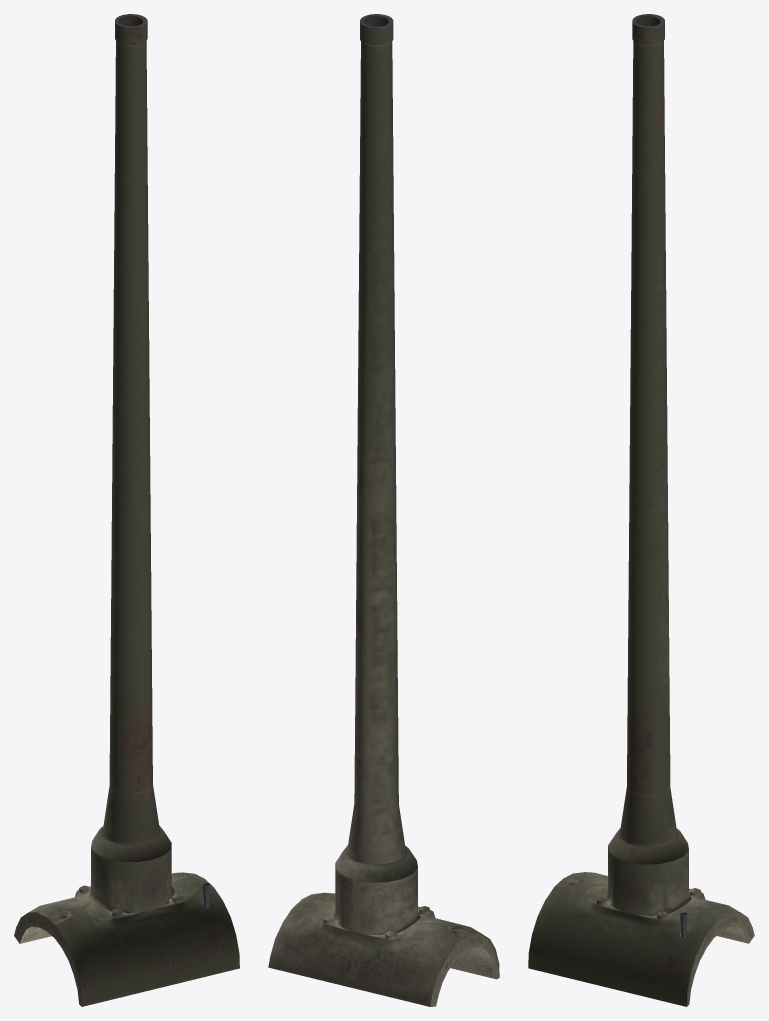
The model's file is Gun_05.glb.
3 renders of one model, left to right at view 1: azimuth 30°, elevation 25°; view 2: azimuth 150°, elevation 25°; view 3: azimuth 330°, elevation 25°, orthographic. The views are drawn at different scales.
Parts seen in each view (by area): view 1: set_0_group_0; view 2: set_0_group_0; view 3: set_0_group_0.
Part boxes in pixels (x1,y1,x2,y2): set_0_group_0: (14,14,239,1006); set_0_group_0: (268,14,499,1006); set_0_group_0: (528,14,754,1006).
Size of the model in its own units: 0.7623 by 4.33 by 0.5672.
Materials: 1 (1 with a texture image).
